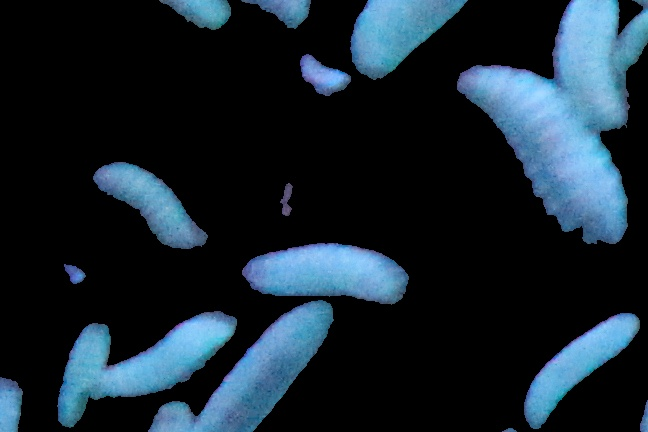larvae: (459, 63, 627, 242), (199, 301, 337, 432), (524, 311, 638, 428), (97, 310, 239, 397), (94, 159, 210, 249), (245, 242, 409, 304), (553, 1, 628, 129), (352, 1, 469, 82), (55, 319, 111, 427)
